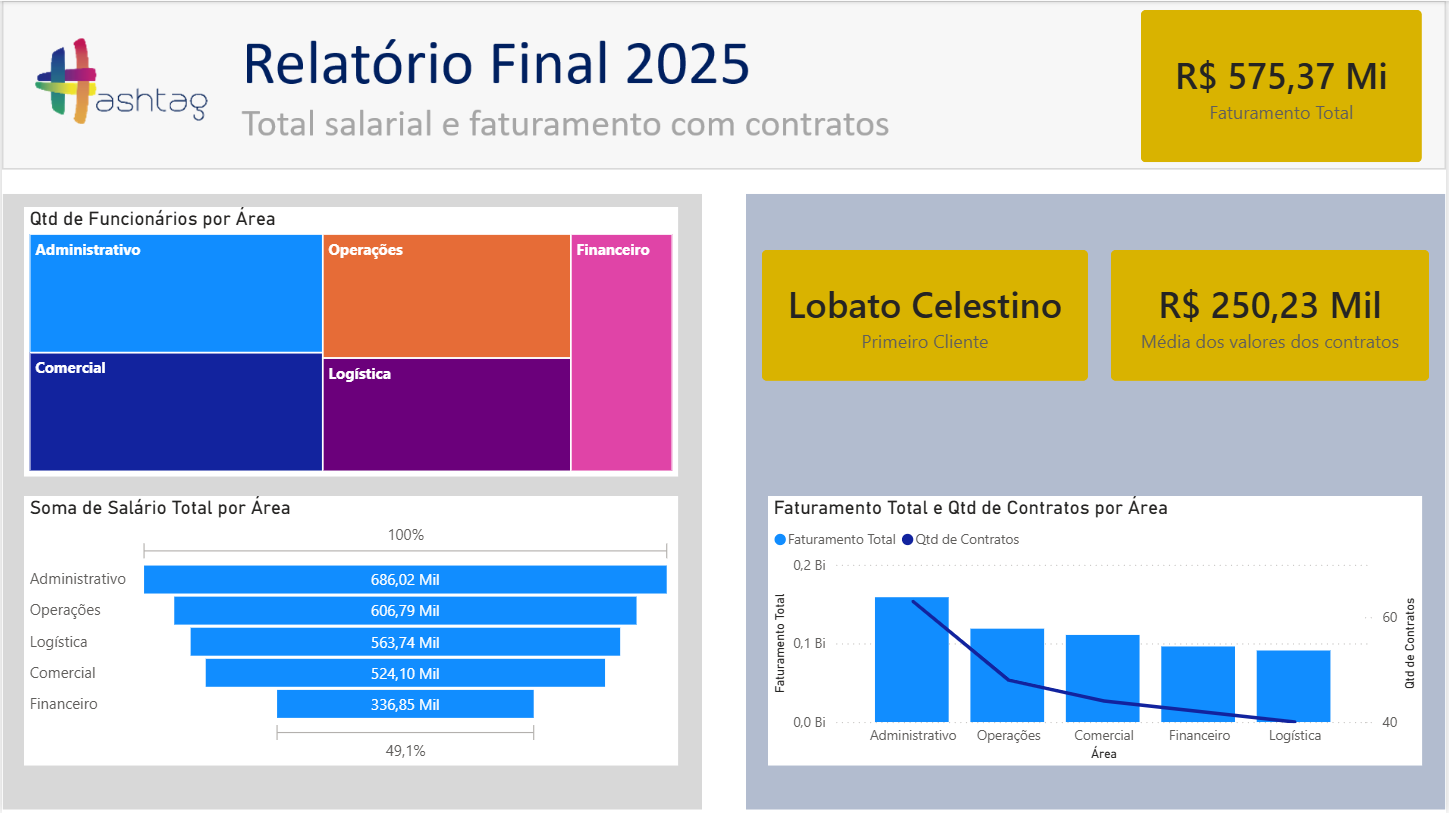

What the dashboard file says about the page in this screenshot:
{"tool":"powerbi","page":{"name":"Página 1","canvas":[1280,720],"ordinal":0},"visuals":[{"type":"treemap","fields":{"Values":["BaseServicosPrestados.Qtd de Funcionários"],"Group":["CadastroCargos.Área"]},"box":[19.5,182.7,579.9,239.4],"z":0},{"type":"cardVisual","fields":{"Data":["Min(CadastroClientes.Cliente)"]},"box":[673.9,220.8,289.1,116.2],"z":1000},{"type":"cardVisual","fields":{"Data":["BaseServicosPrestados.Média dos valores dos contratos"]},"box":[983.3,220.8,282.9,116.2],"z":2000},{"type":"funnel","fields":{"Y":["Sum(CadastroFuncionarios.Salário Total)"],"Category":["CadastroCargos.Área"]},"box":[19.5,438.9,579.9,239.4],"z":3000},{"type":"lineClusteredColumnComboChart","fields":{"Y":["BaseServicosPrestados.Faturamento Total"],"Category":["CadastroCargos.Área"],"Y2":["BaseServicosPrestados.Qtd de Contratos"]},"box":[679.2,438.9,579.9,239.4],"z":4000},{"type":"cardVisual","fields":{"Data":["BaseServicosPrestados.Faturamento Total"]},"box":[1010,8,249.2,135.7],"z":5000}]}

Visuals, with their boxes in screenshot pixels (x1, y1, x2, y2), scaled from the page's 1280x720 canvas onto the 1449x813 screenshot:
treemap - BaseServicosPrestados.Qtd de Funcionários x CadastroCargos.Área: <bbox>22, 206, 679, 477</bbox>
cardVisual - Min(CadastroClientes.Cliente): <bbox>763, 249, 1090, 381</bbox>
cardVisual - BaseServicosPrestados.Média dos valores dos contratos: <bbox>1113, 249, 1433, 381</bbox>
funnel - Sum(CadastroFuncionarios.Salário Total) x CadastroCargos.Área: <bbox>22, 496, 679, 766</bbox>
lineClusteredColumnComboChart - BaseServicosPrestados.Faturamento Total x CadastroCargos.Área: <bbox>769, 496, 1425, 766</bbox>
cardVisual - BaseServicosPrestados.Faturamento Total: <bbox>1143, 9, 1425, 162</bbox>
